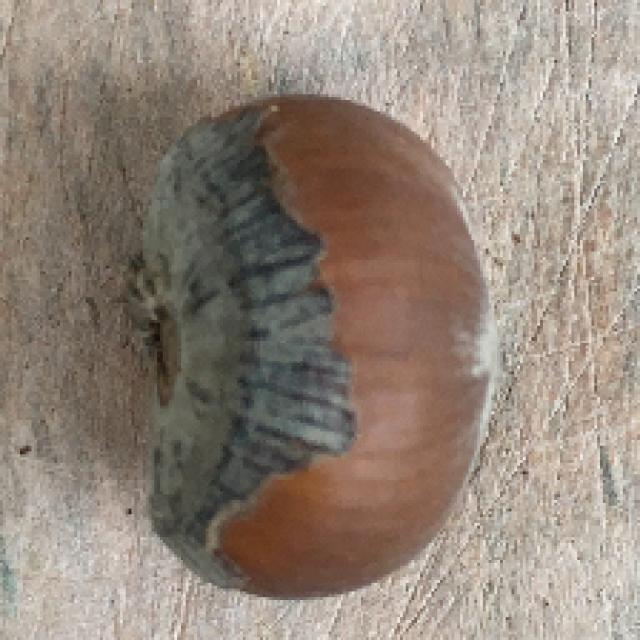damagedHazelnut: (116, 89, 498, 602)
